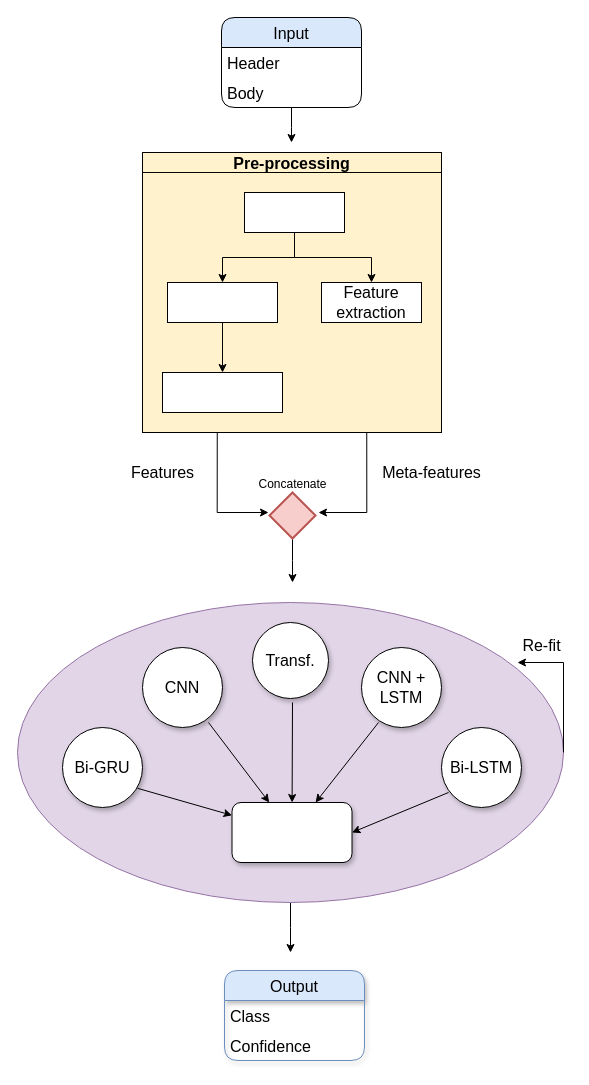
The diagram is 589 pixels wide and 1085 high, and some of its shapes have lost their labels. Here are the shapes that lost their labels. From the top down, the centre of each, then its label:
At [294,212]: "Text Cleaning".
At [222,302]: "Lemmatization".
At [222,392]: "Word embedding".
At [292,834]: "Majority vote".
